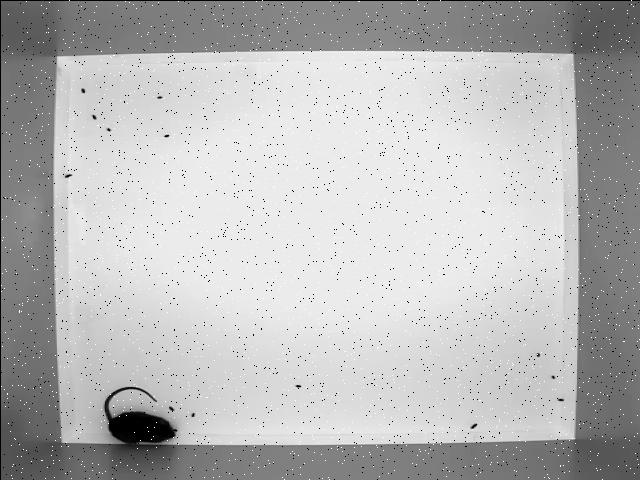Tikus: (95, 384, 182, 444)
